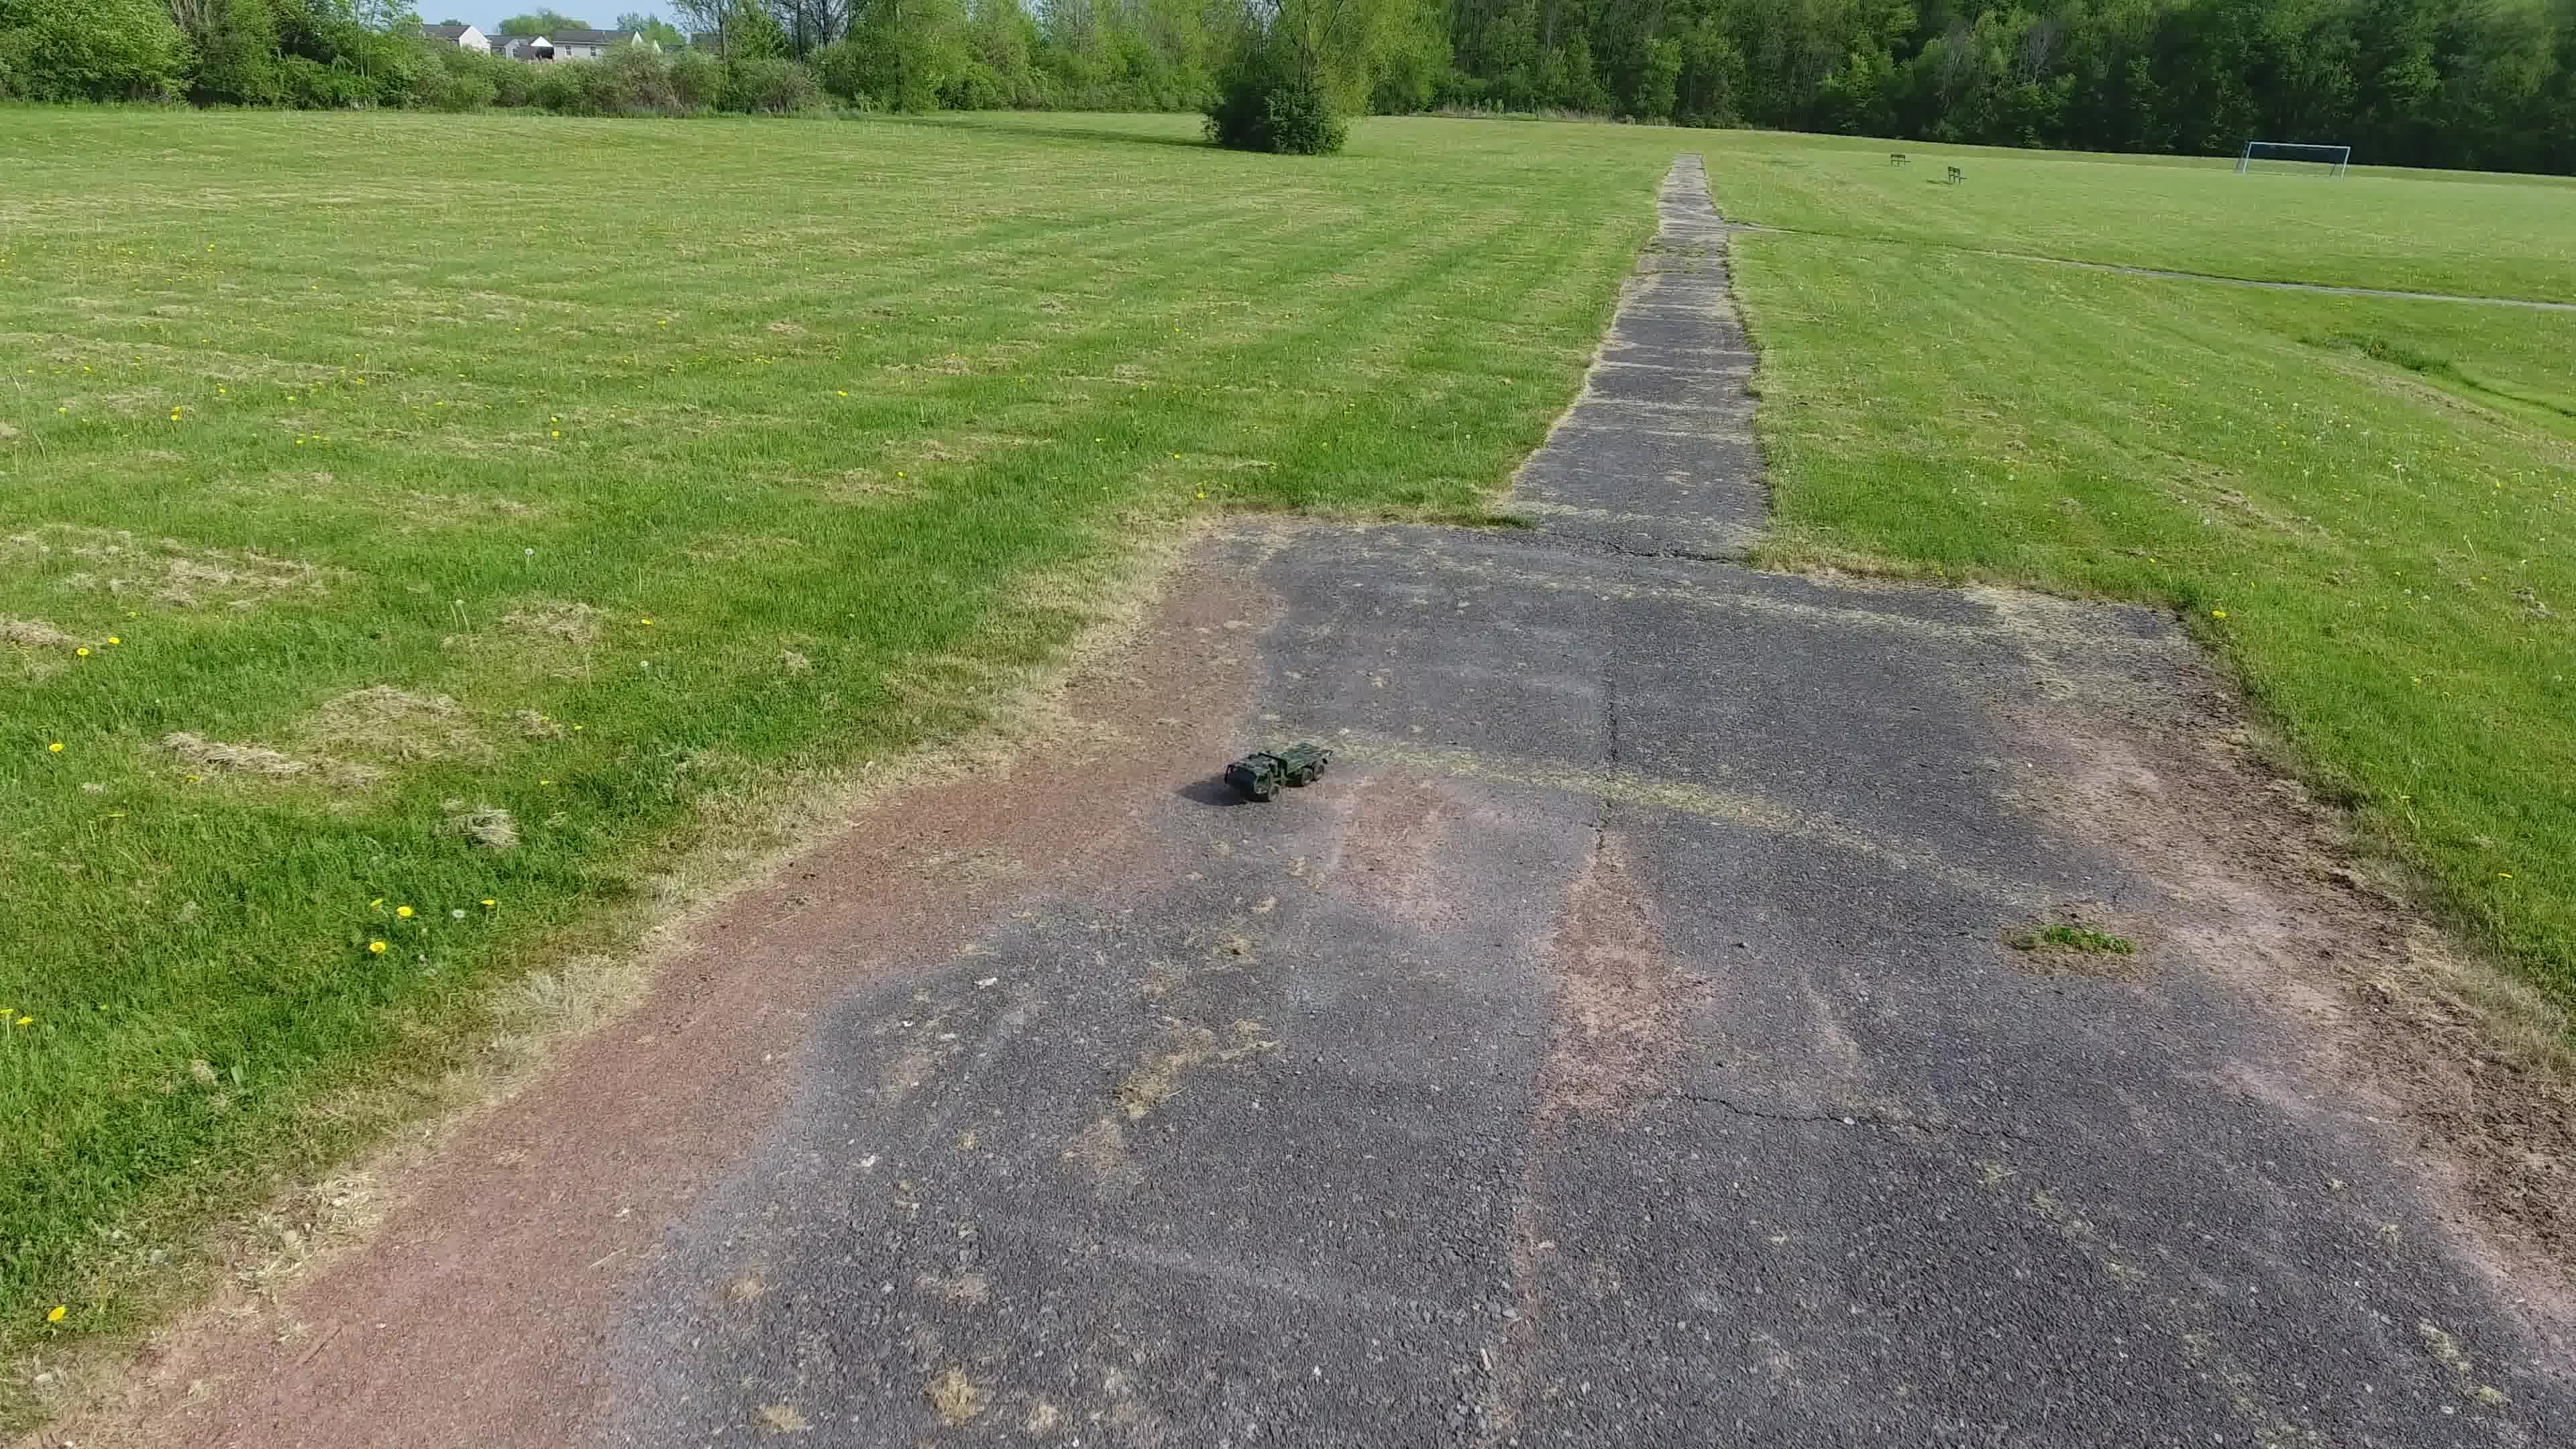transporter9_camo: (1223, 731, 1339, 809)
